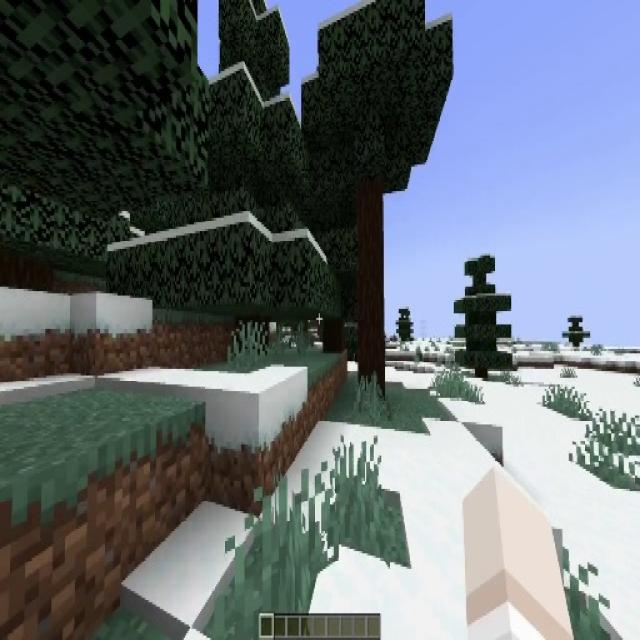spruce: (305, 17, 444, 398), (453, 250, 512, 379), (563, 314, 590, 351), (397, 306, 413, 340)
spruce_log: (357, 198, 387, 394), (322, 317, 344, 351)
